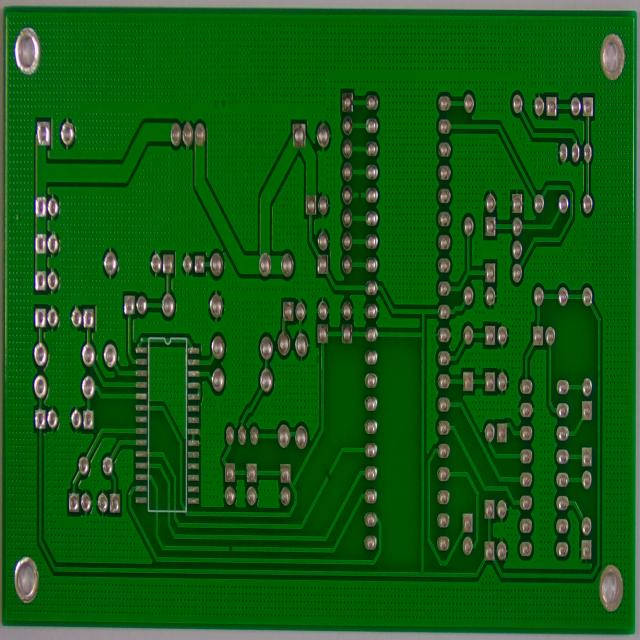open_circuit: (321, 457, 336, 488), (223, 535, 238, 560), (354, 186, 366, 212)
